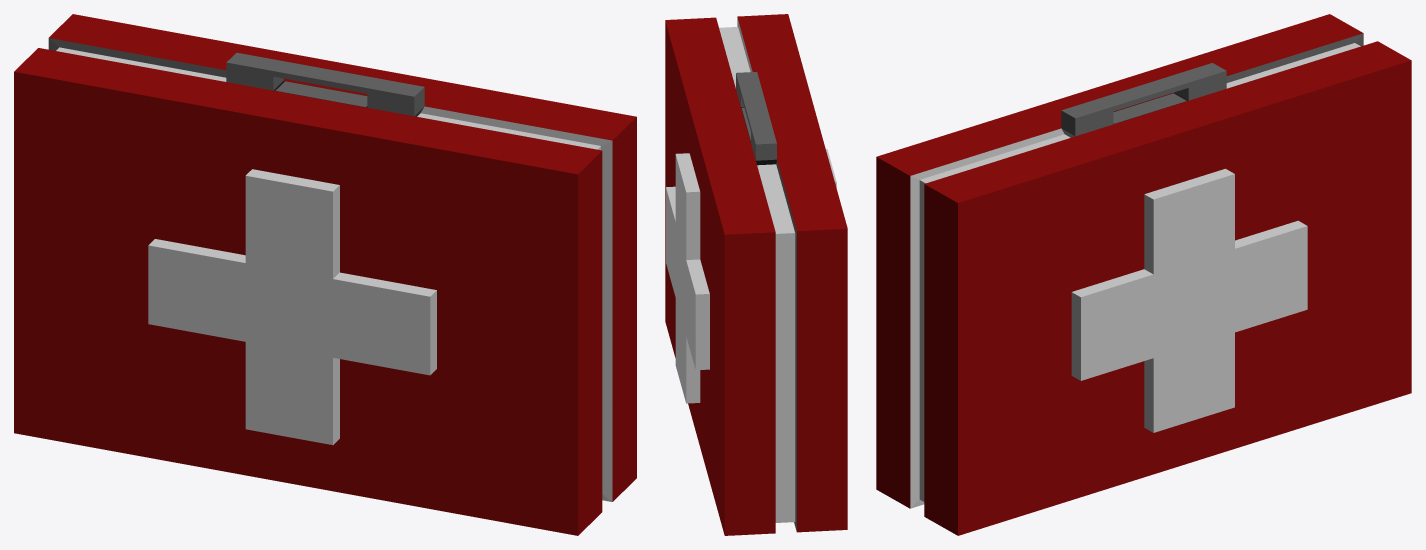
The model's file is healthkit.fbx.
The picture shows the model from 3 angles, left to right: view 1: azimuth 30°, elevation 25°; view 2: azimuth 150°, elevation 25°; view 3: azimuth 270°, elevation 25°; orthographic projection. The views are drawn at different scales.
Parts seen in each view (by area): view 1: Cube.001; view 2: Cube.001; view 3: Cube.001.
Part boxes in pixels (bbox=[...]): Cube.001: bbox=[14, 14, 636, 535]; Cube.001: bbox=[665, 14, 847, 535]; Cube.001: bbox=[876, 14, 1411, 535].
Size of the model in its own units: 5.87 by 5.08 by 7.02.
Materials: 1 (1 with a texture image).
